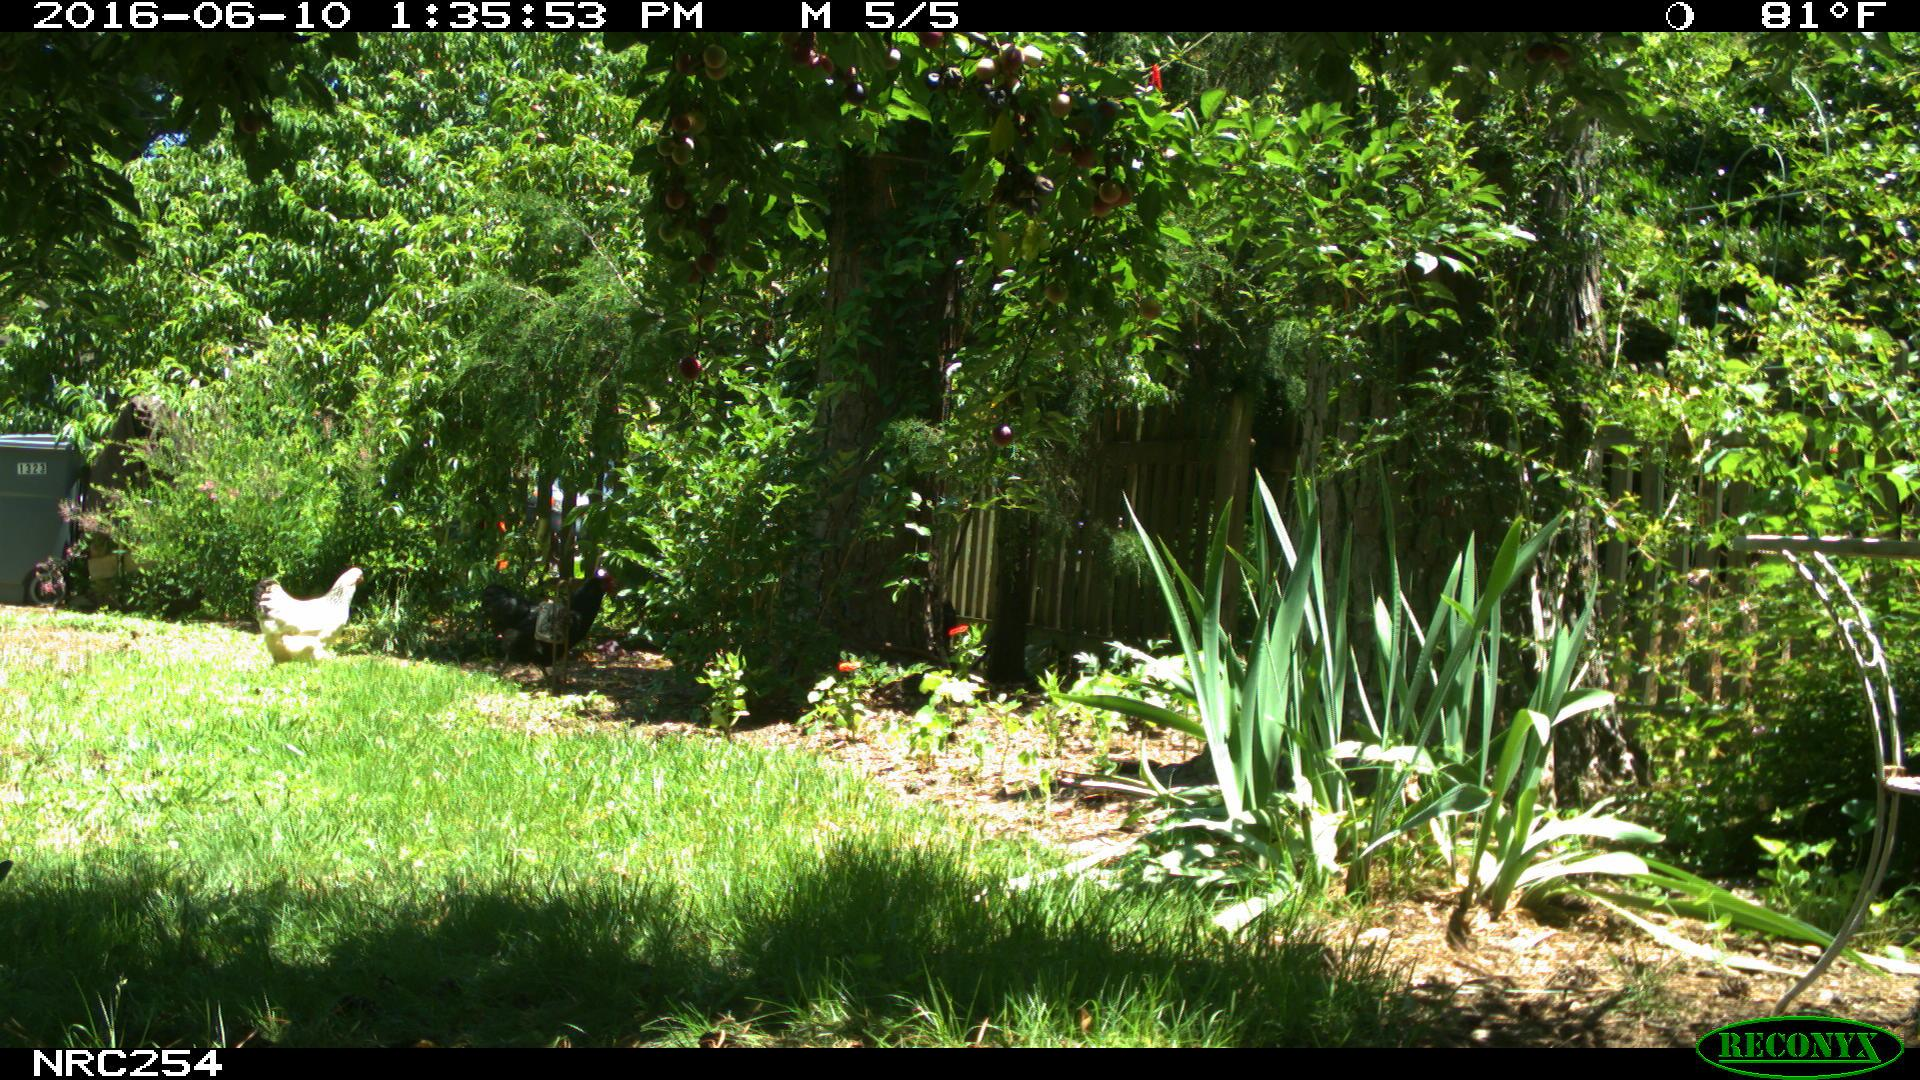Animal: (477, 574, 611, 665), (255, 566, 363, 673)
